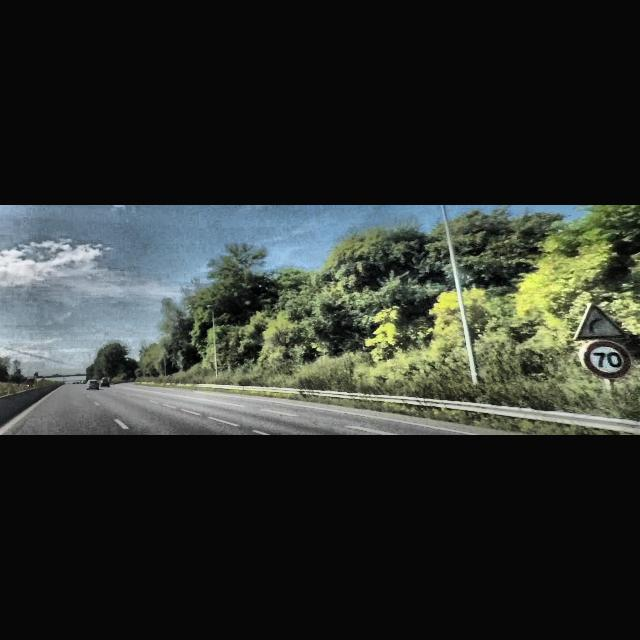speed_70: (584, 342, 630, 378)
